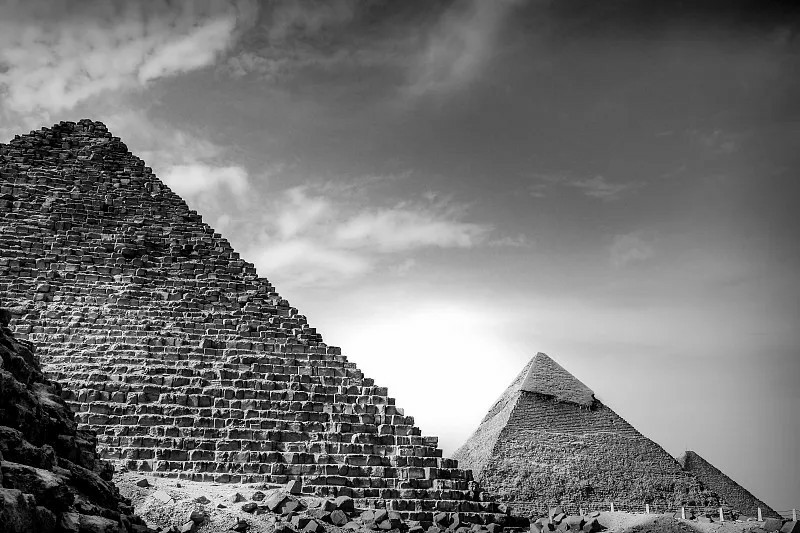Pyramid: (2, 121, 519, 528), (451, 353, 739, 520), (680, 450, 786, 522)
